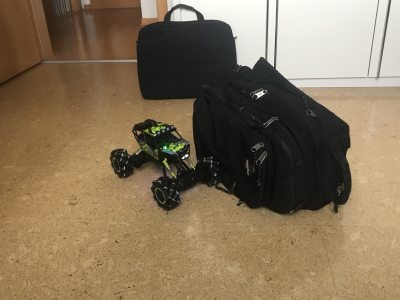remote control car: (109, 117, 221, 213)
